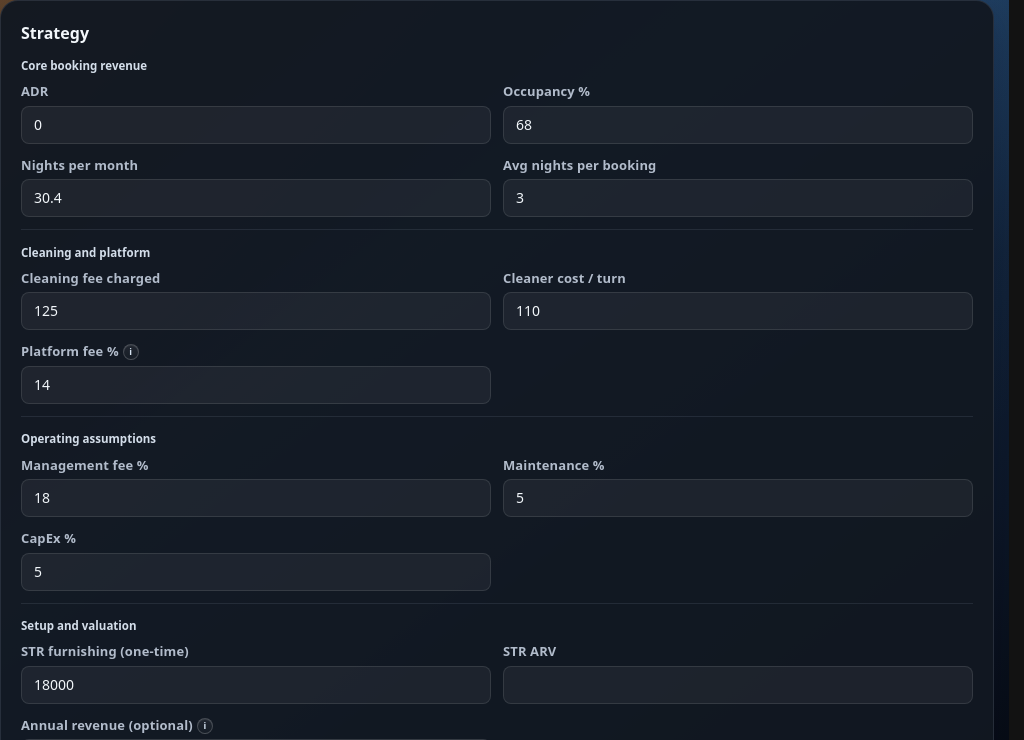
Scenario: Airbnb fee assumptions › explains fee and annual-total bases in the panel form
Click the button named "More info about Platform fee %": (131, 352) [123,344,139,360]
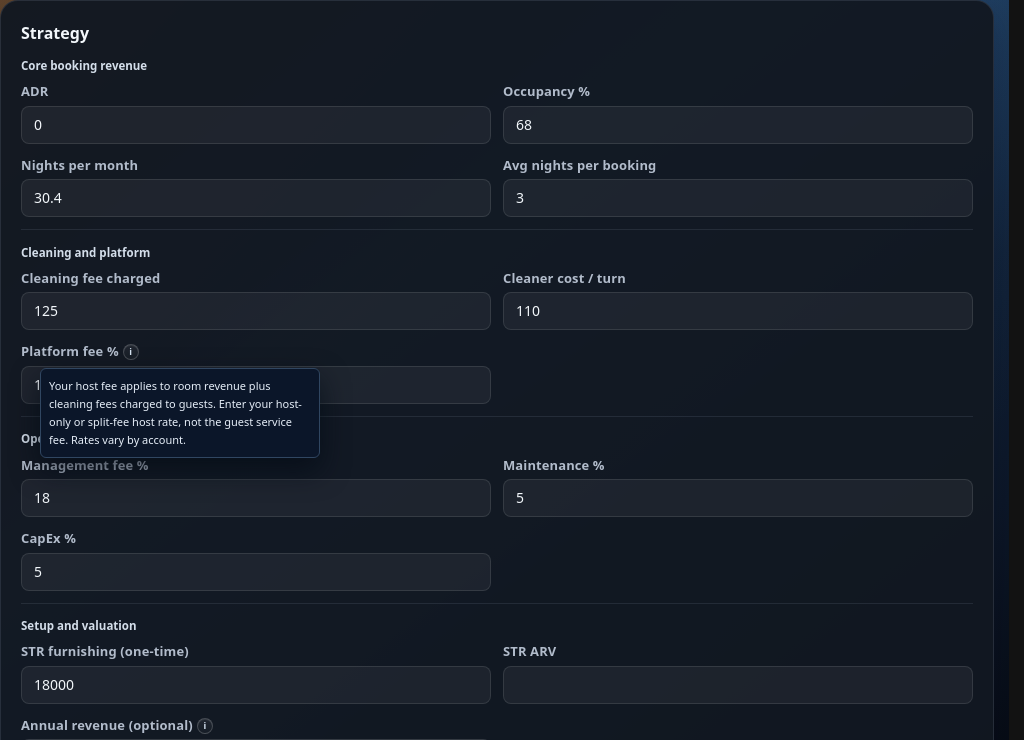
Expected: the dialog shows "room revenue plus cleaning fees", [49,378,302,447]
Expected: the dialog shows "host-only or split-fee", [49,378,302,447]
Expected: the dialog shows "guest service fee", [49,378,302,447]
Press Escape
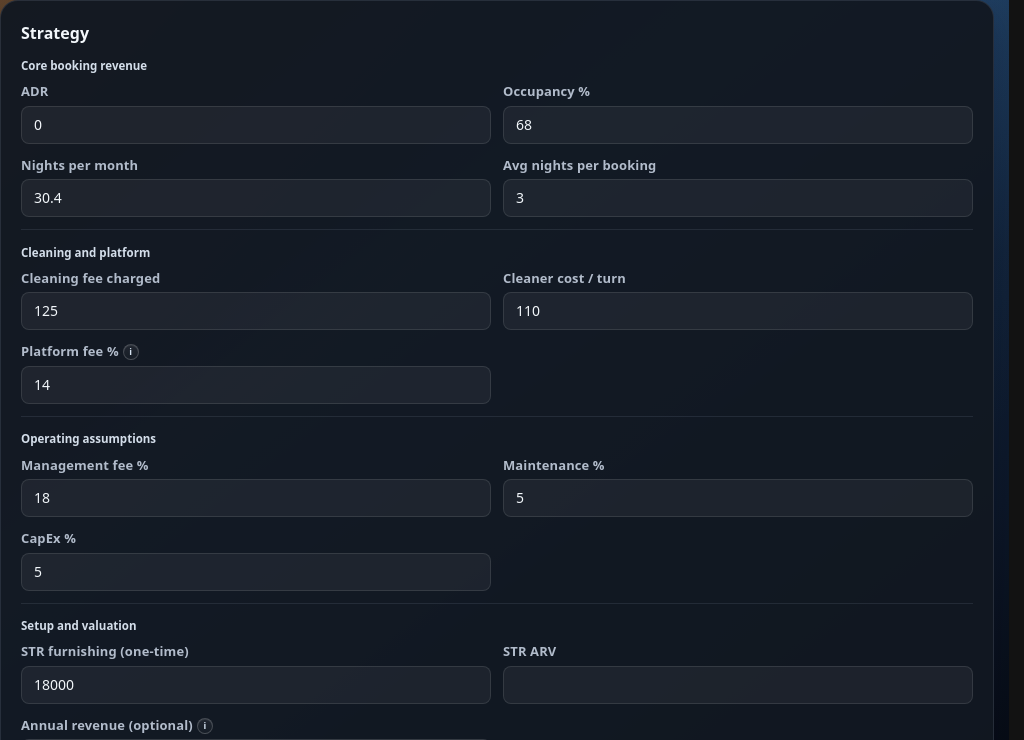
Click the button named "More info about Annual revenue (optional)": (205, 726) [197,718,213,734]
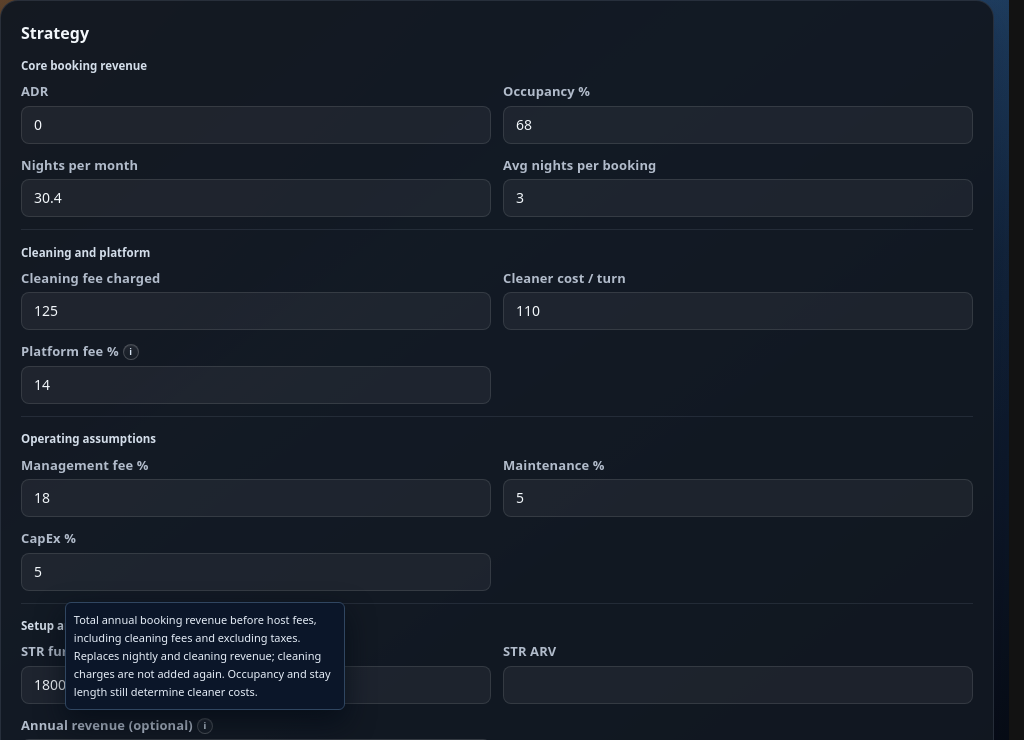
Expected: the dialog shows "including cleaning fees", [74,612,331,699]
Expected: the dialog shows "not added again", [74,612,331,699]
Expected: the dialog shows "Occupancy and stay length still determine cleaner costs", [74,612,331,699]
